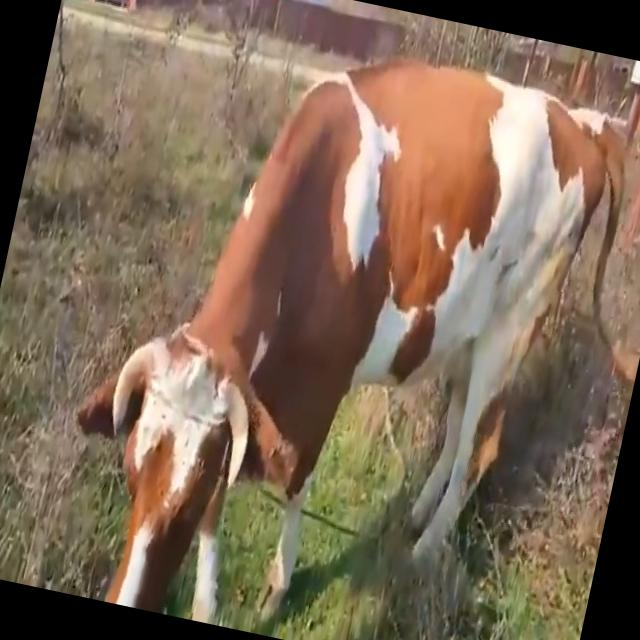cow: (78, 60, 623, 619)
